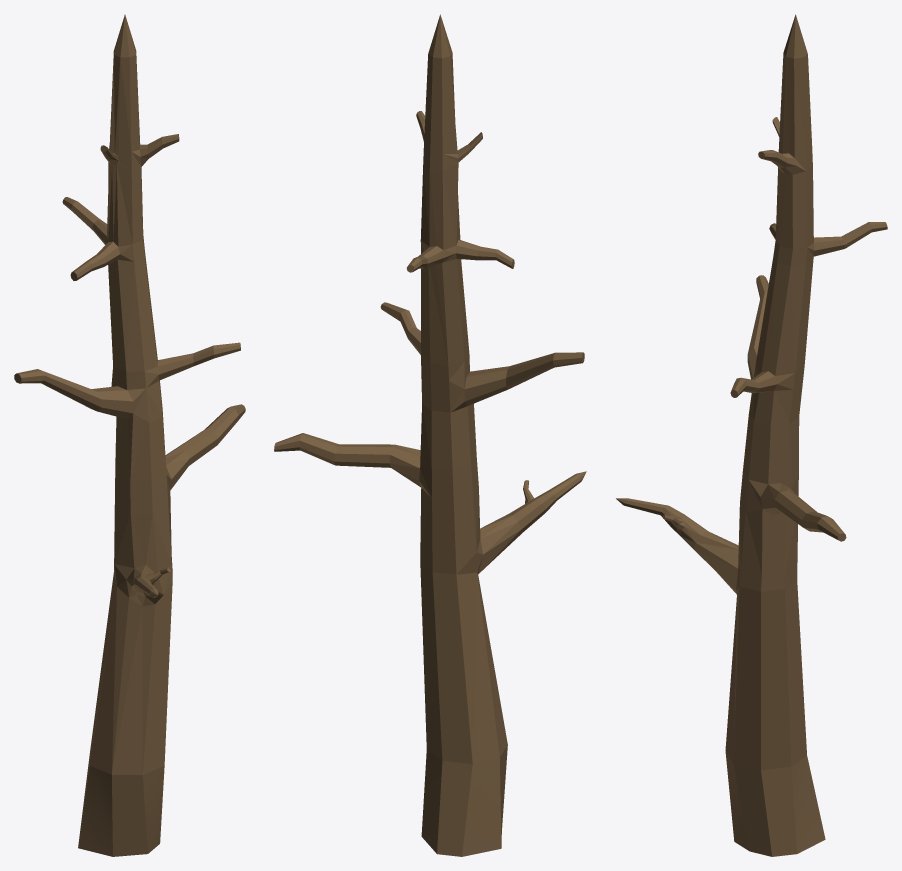
Rendered from Denneboom_4.fbx.
3 views of the same model, side by side, from view 1: azimuth 30°, elevation 25°; view 2: azimuth 150°, elevation 25°; view 3: azimuth 270°, elevation 25° (orthographic).
Parts seen in each view (by area): view 1: Den_4; view 2: Den_4; view 3: Den_4.
Boxes of the visible parts, <box> form: Den_4: <box>14,14,245,856</box>; Den_4: <box>274,14,586,856</box>; Den_4: <box>616,14,887,856</box>.
Size of the model in its own units: 7.7 by 22.53 by 6.7.
